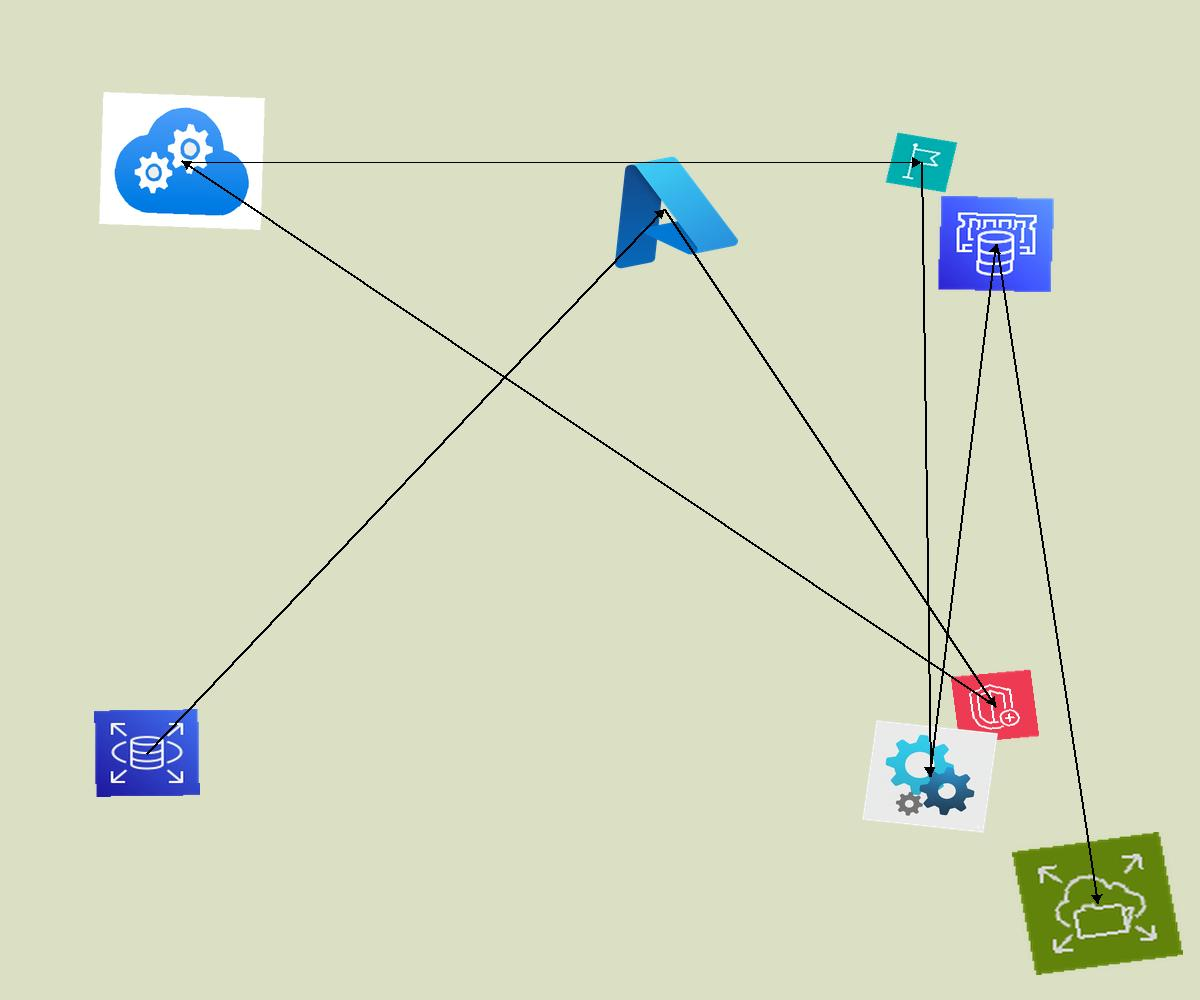AWS-EFS: (1012, 832, 1183, 975)
AWS-ElastiCache: (937, 195, 1055, 293)
AWS-RDS: (94, 709, 200, 797)
AWS-Region: (885, 132, 958, 193)
AWS-Shield: (950, 669, 1040, 744)
Azure_api: (862, 720, 998, 833)
Azure_cloud_services: (99, 92, 265, 230)
Azure_services: (581, 140, 747, 278)
